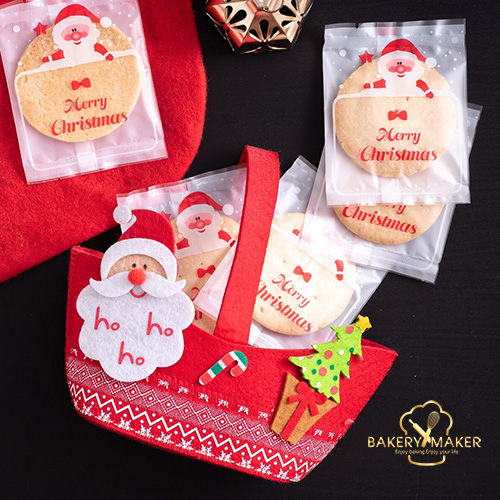Snack: (317, 13, 483, 209)
